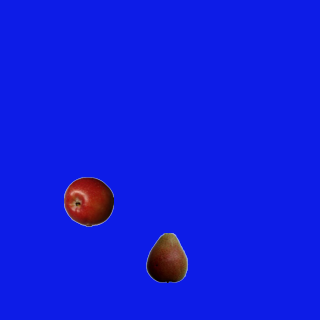Apple Braeburn: (63, 176, 113, 226)
Pear Forelle: (141, 232, 191, 282)
